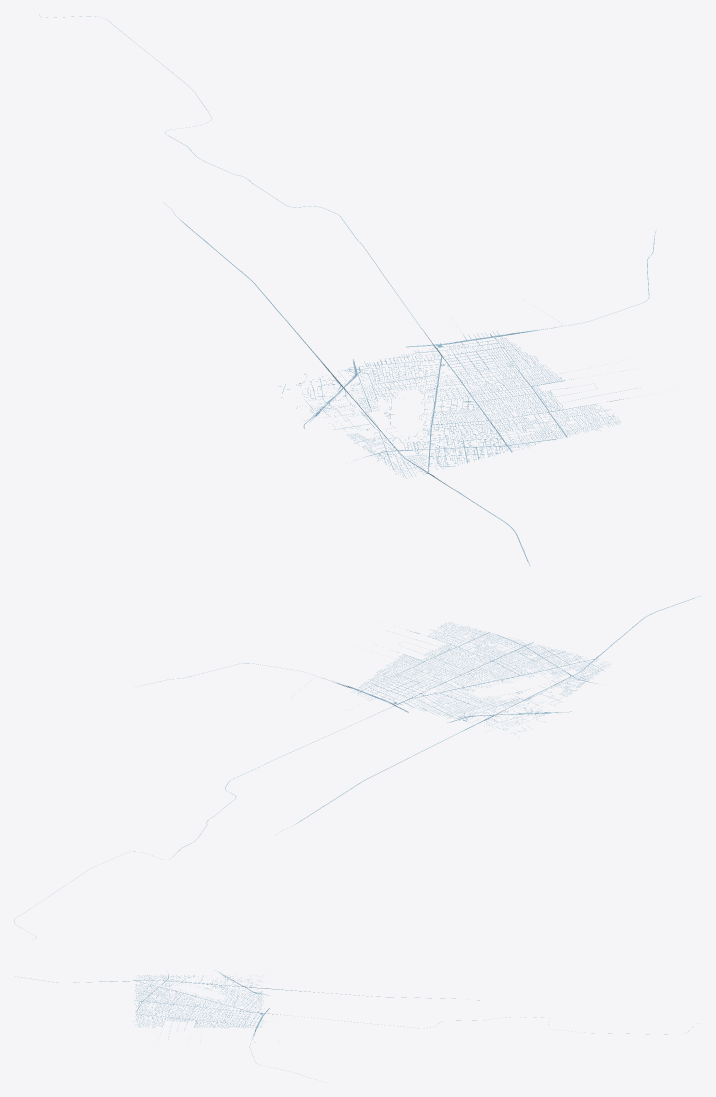
The model's file is roads.glb.
3 renders of one model, top to bottom at view 1: azimuth 30°, elevation 25°; view 2: azimuth 150°, elevation 25°; view 3: azimuth 270°, elevation 25°, orthographic. The views are drawn at different scales.
Parts seen in each view (by area): view 1: roads; view 2: roads; view 3: roads.
Boxes of the visible parts, x1=… form: roads: x1=39, y1=14, x2=656, y2=566; roads: x1=14, y1=596, x2=699, y2=938; roads: x1=15, y1=970, x2=700, y2=1079.
Bounding box in the file's own units: 11178 × 79.05 × 28155.
